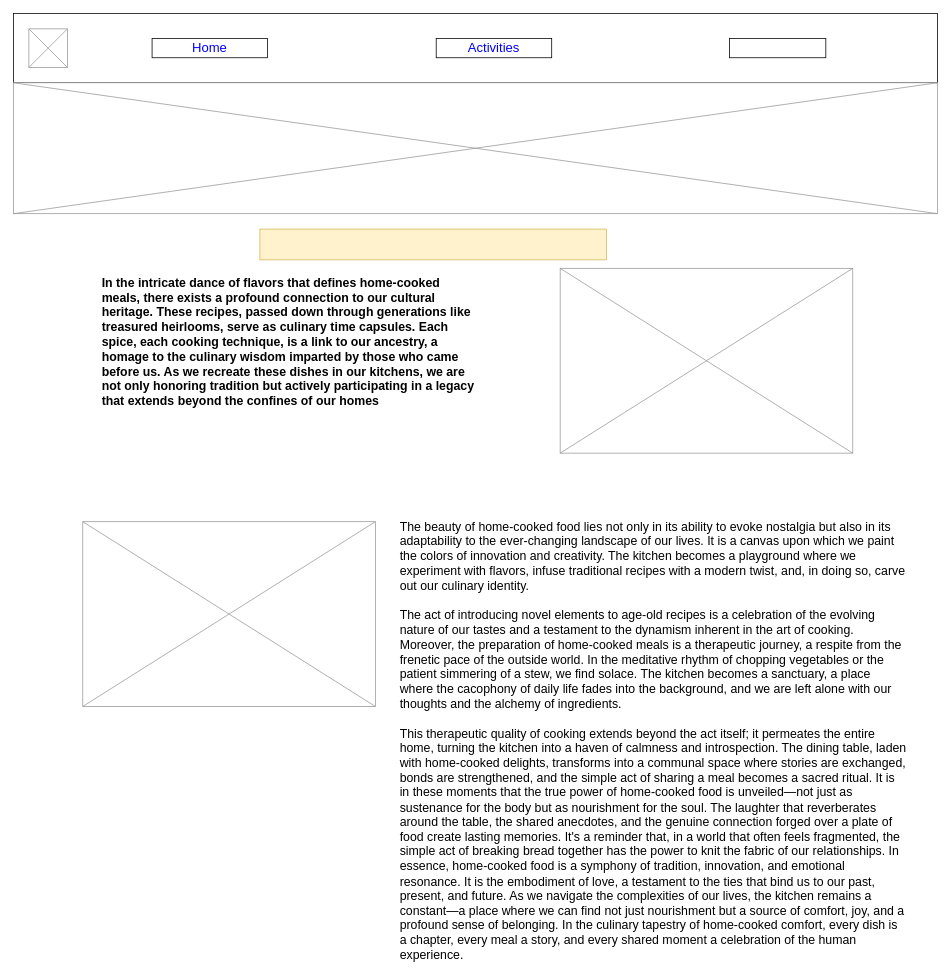
The diagram is 951 pixels wide and 976 high, and some of its shapes have lost their labels. The centre of each missing label's shape, as x and y in pixels:
Menu List: [777,48]
Title: [432,244]
